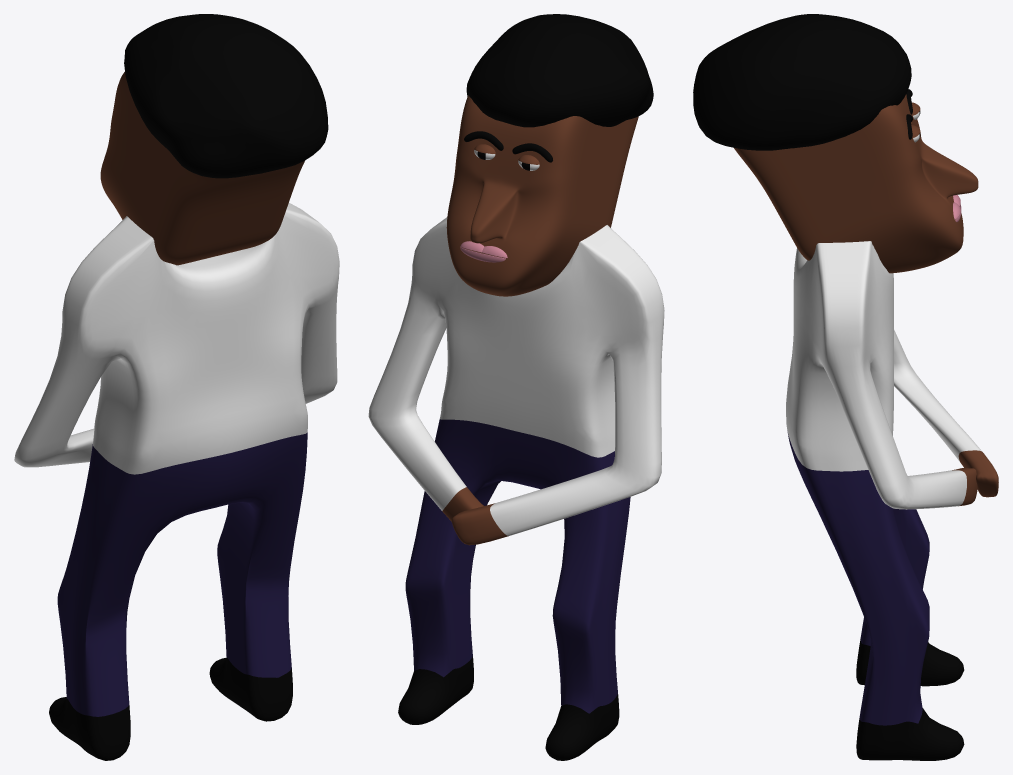
File: QuandaleDingleA.fbx
3 views of the same model, side by side, from view 1: azimuth 30°, elevation 25°; view 2: azimuth 150°, elevation 25°; view 3: azimuth 270°, elevation 25° (orthographic). The views are drawn at different scales.
Visible parts, largest first — view 1: Cube.003, Icosphere, Cube; view 2: Cube.003, Cube, Icosphere; view 3: Cube.003, Icosphere, Cube.
Boxes of the visible parts, left/top/right/bottom form: Cube.003: left=14, top=203, right=339, bottom=760; Icosphere: left=124, top=14, right=328, bottom=178; Cube: left=100, top=72, right=304, bottom=265; Cube.003: left=368, top=217, right=664, bottom=760; Cube: left=446, top=95, right=638, bottom=296; Icosphere: left=466, top=14, right=653, bottom=127; Cube.003: left=786, top=241, right=998, bottom=760; Icosphere: left=693, top=14, right=911, bottom=150; Cube: left=734, top=94, right=978, bottom=273.
Bounding box in the file's own units: 430 × 957 × 380.
